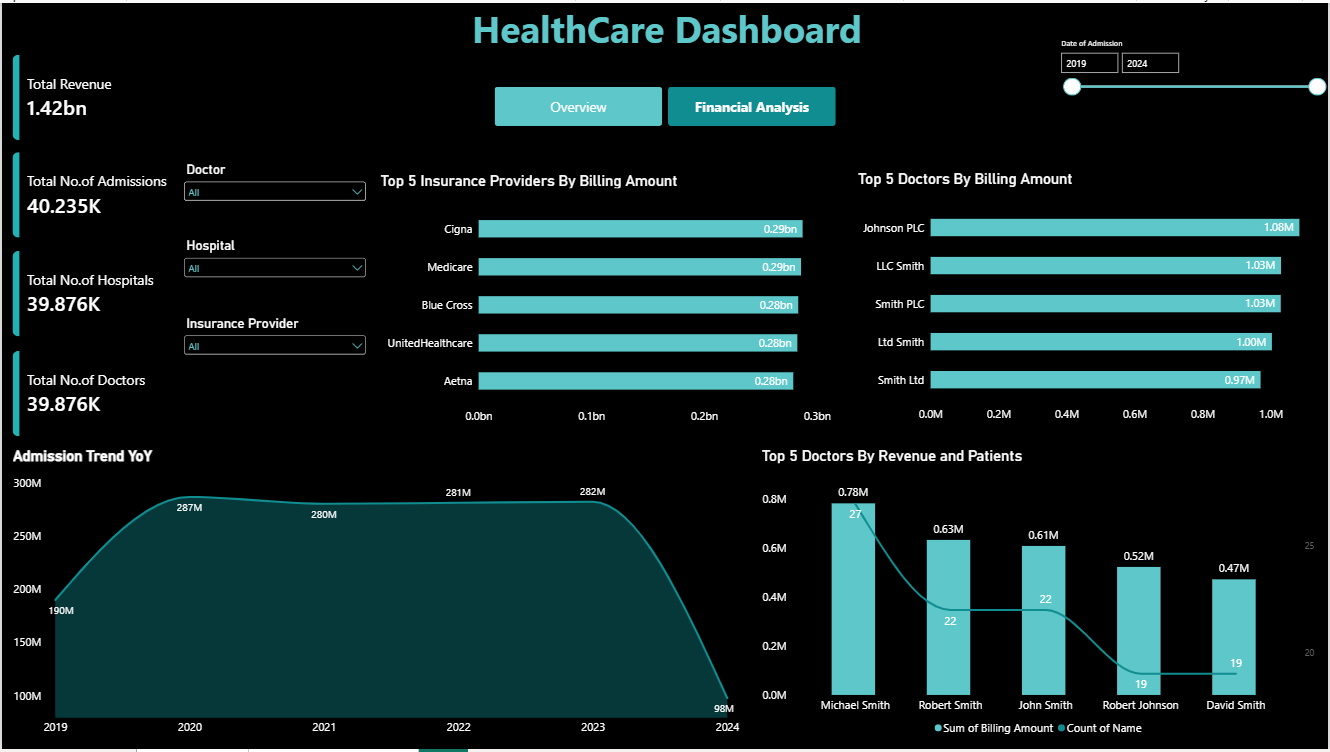

This screenshot's page, from the dashboard's own definition file:
{"tool":"powerbi","page":{"name":"Financial Analysis","canvas":[1920,1080],"ordinal":1},"visuals":[{"type":"barChart","title":"Top 5 Insurance Providers By Billing Amount","fields":{"Category":["healthcare_dataset.Insurance Provider"],"Y":["Sum(healthcare_dataset.Billing Amount)"]},"box":[532,229.8,684.1,399.9],"z":0},{"type":"barChart","title":"Top 5 Doctors By Billing Amount","fields":{"Category":["healthcare_dataset.Hospital"],"Y":["Sum(healthcare_dataset.Billing Amount)"]},"box":[1223.3,228,696.7,399.9],"z":1000},{"type":"lineChart","title":"Admission Trend YoY","fields":{"Category":["healthcare_dataset.Date of Admission"],"Y":["Sum(healthcare_dataset.Billing Amount)"]},"box":[0,628,1084,452.4],"z":2000},{"type":"lineStackedColumnComboChart","title":"Top 5 Doctors By Revenue and Patients","fields":{"Category":["healthcare_dataset.Doctor"],"Y":["Sum(healthcare_dataset.Billing Amount)"],"Y2":["CountNonNull(healthcare_dataset.Name)"]},"box":[1084,628,836.1,452.4],"z":3000},{"type":"cardVisual","fields":{"Data":["Sum(healthcare_dataset.Billing Amount)"]},"box":[14.4,74.1,244.9,125.6],"z":4000},{"type":"cardVisual","fields":{"Data":["Count(healthcare_dataset.Name)"]},"box":[14.4,216.1,244.9,125.6],"z":5000},{"type":"cardVisual","fields":{"Data":["Count(healthcare_dataset.Hospital)"]},"box":[14.4,358.1,244.9,125.6],"z":6000},{"type":"cardVisual","fields":{"Data":["Count(healthcare_dataset.Hospital)"]},"box":[14.4,502.2,244.9,125.6],"z":7000},{"type":"pageNavigator","box":[713,121.2,494,57.9],"z":8000},{"type":"slicer","fields":{"Values":["healthcare_dataset.Date of Admission"]},"box":[1525.5,50.7,394.5,86.9],"z":9000},{"type":"slicer","fields":{"Values":["healthcare_dataset.Doctor"]},"box":[258.8,229.8,273.3,59.7],"z":10000},{"type":"slicer","fields":{"Values":["healthcare_dataset.Hospital"]},"box":[258.8,340.2,273.3,59.7],"z":11000},{"type":"slicer","fields":{"Values":["healthcare_dataset.Insurance Provider"]},"box":[258.8,452.4,273.3,59.7],"z":12000},{"type":"textbox","box":[609.9,0,705.8,74.2],"z":13000}]}

Visuals, with their boxes in screenshot pixels (x1, y1, x2, y2), scaled from the page's 1920x1080 canvas onto the 1330x752 screenshot:
"Top 5 Insurance Providers By Billing Amount" barChart: BBox(369, 160, 842, 438)
"Top 5 Doctors By Billing Amount" barChart: BBox(847, 159, 1329, 437)
"Admission Trend YoY" lineChart: BBox(0, 437, 751, 751)
"Top 5 Doctors By Revenue and Patients" lineStackedColumnComboChart: BBox(751, 437, 1329, 751)
cardVisual - Sum(healthcare_dataset.Billing Amount): BBox(10, 52, 180, 139)
cardVisual - Count(healthcare_dataset.Name): BBox(10, 150, 180, 238)
cardVisual - Count(healthcare_dataset.Hospital): BBox(10, 249, 180, 337)
cardVisual - Count(healthcare_dataset.Hospital): BBox(10, 350, 180, 437)
pageNavigator: BBox(494, 84, 836, 125)
slicer - healthcare_dataset.Date of Admission: BBox(1057, 35, 1329, 96)
slicer - healthcare_dataset.Doctor: BBox(179, 160, 369, 202)
slicer - healthcare_dataset.Hospital: BBox(179, 237, 369, 278)
slicer - healthcare_dataset.Insurance Provider: BBox(179, 315, 369, 357)
textbox: BBox(422, 0, 911, 52)
